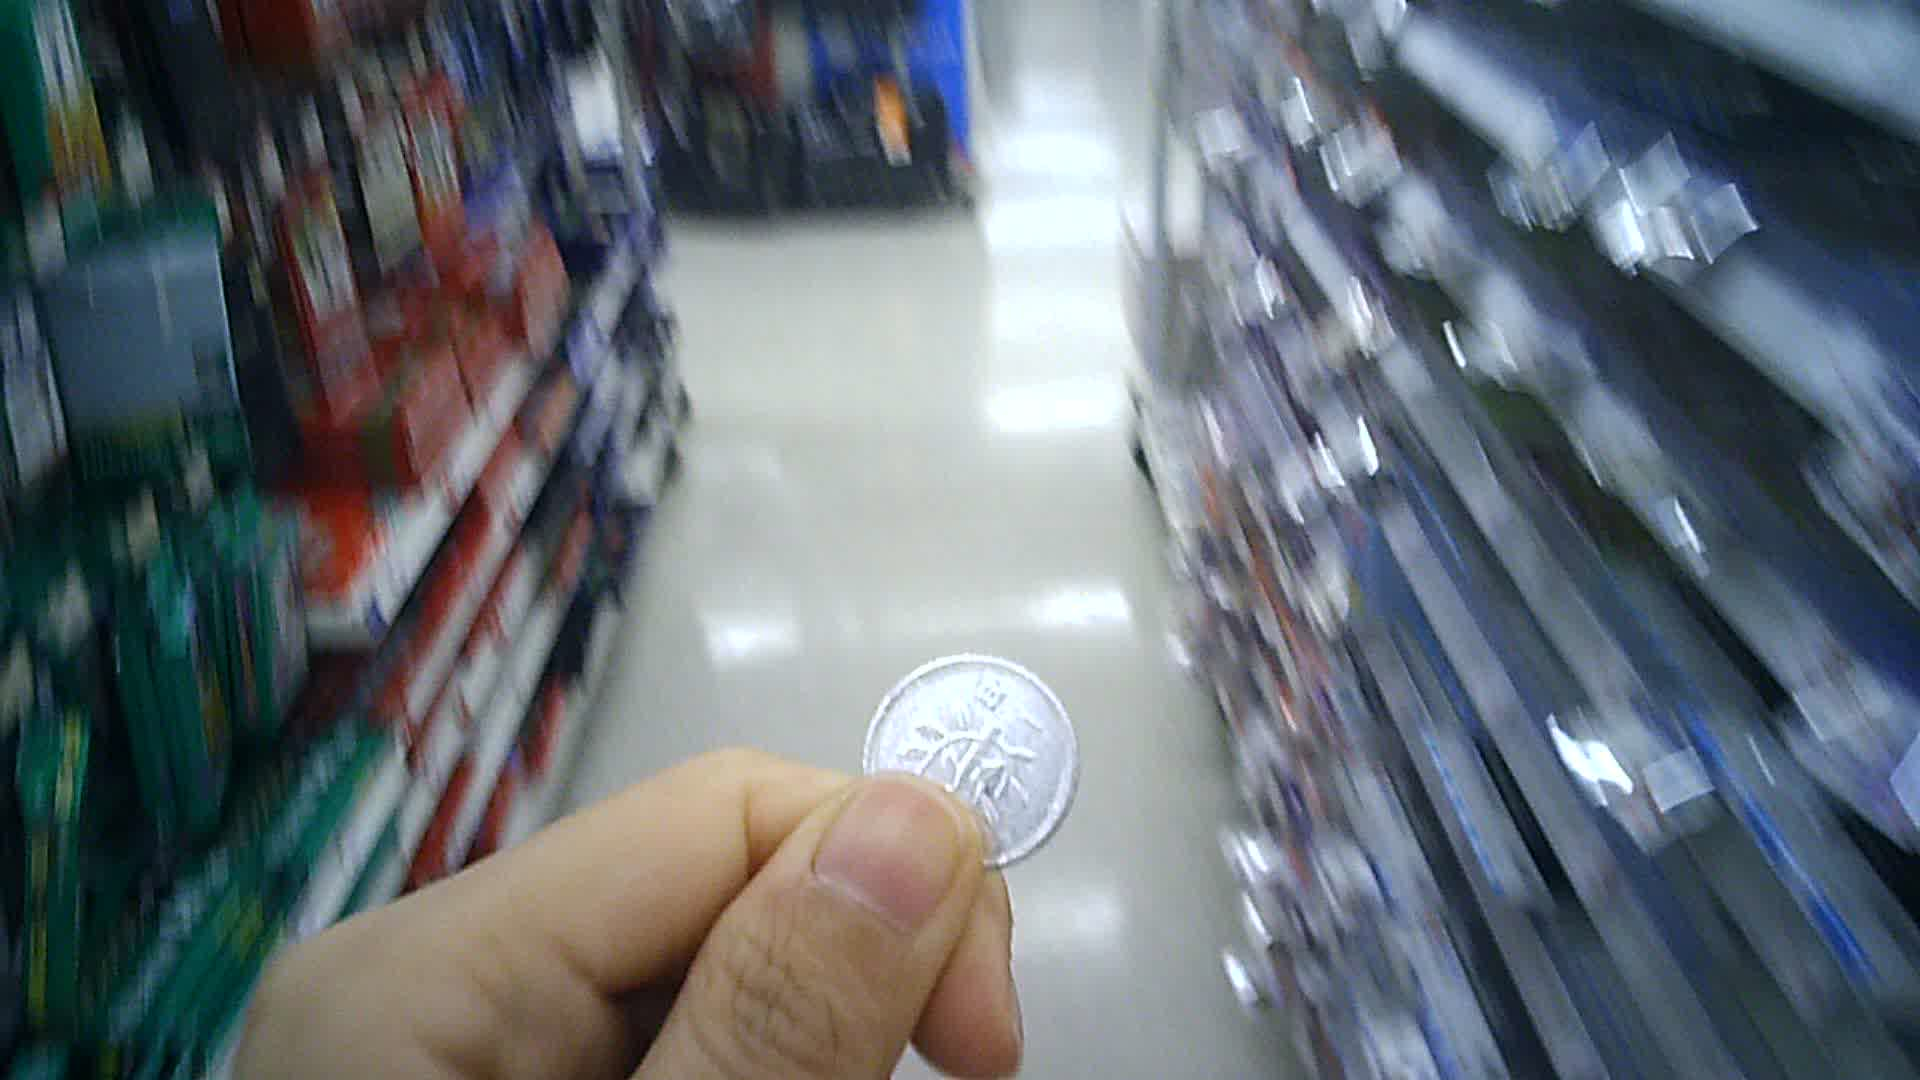1 Yen: (864, 645, 1084, 862)
